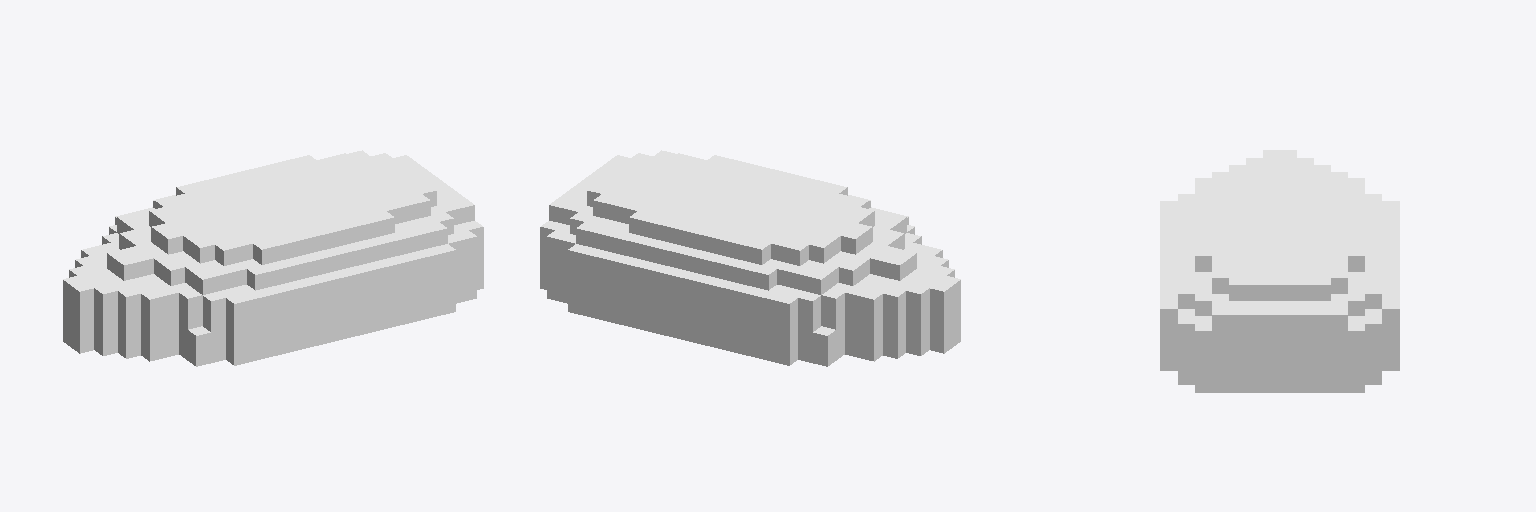
File: MelochevkaCity-8.obj
3 renders of one model, left to right at view 1: azimuth 30°, elevation 25°; view 2: azimuth 150°, elevation 25°; view 3: azimuth 270°, elevation 25°, orthographic.
Parts seen in each view (by area): view 1: object 1; view 2: object 1; view 3: object 1.
Part boxes in pixels (bbox=[...]): object 1: bbox=[63, 150, 483, 366]; object 1: bbox=[540, 150, 960, 366]; object 1: bbox=[1160, 150, 1399, 392].
Bounding box in the file's own units: 2.5 × 0.6 × 1.4.